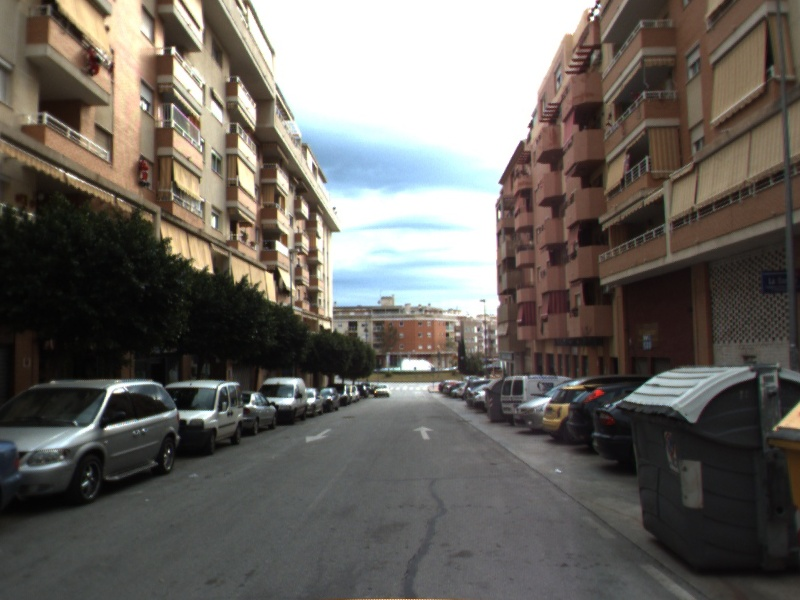STRAIGHT: (411, 423, 436, 442)
